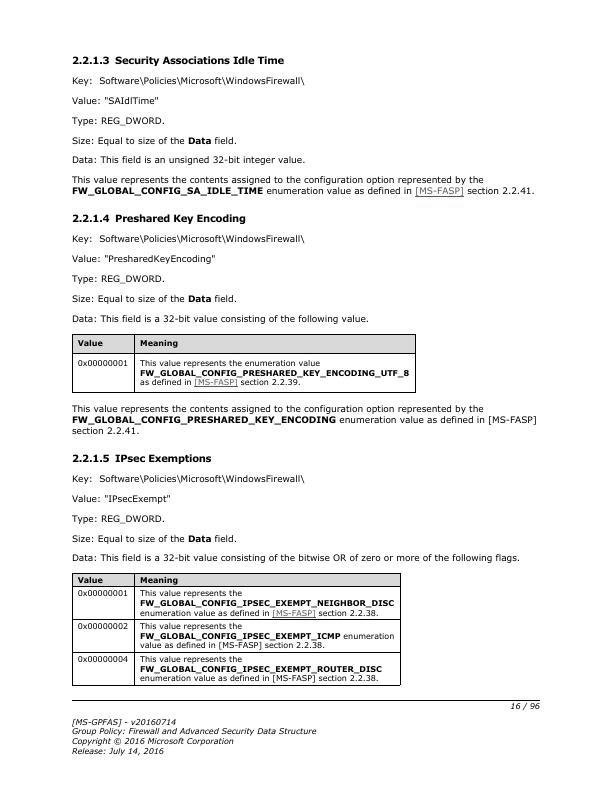table: (73, 572, 401, 687), (73, 334, 417, 394)
text: (69, 401, 540, 434), (69, 172, 536, 198), (67, 713, 321, 759), (70, 550, 522, 564), (69, 310, 371, 325), (69, 53, 287, 69), (67, 232, 305, 246), (69, 152, 307, 165), (69, 472, 307, 485), (69, 73, 306, 86), (69, 132, 238, 147), (69, 212, 249, 226), (68, 251, 221, 266), (69, 532, 240, 545), (69, 292, 238, 305), (69, 451, 213, 465), (67, 93, 162, 108), (68, 271, 167, 285), (68, 113, 162, 127), (69, 492, 172, 504), (69, 512, 164, 524)
